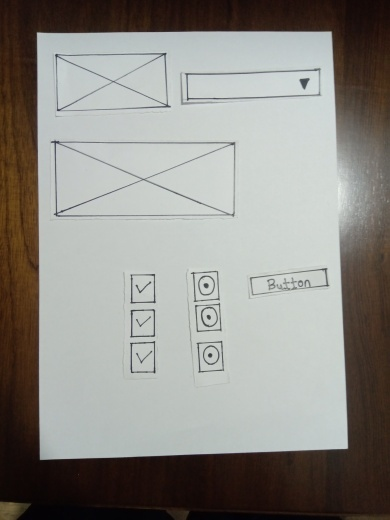button: (249, 266, 334, 298)
checkbox: (131, 275, 157, 304), (132, 345, 154, 375), (132, 310, 153, 338)
dropdown: (184, 71, 320, 105)
img: (53, 138, 234, 215), (56, 52, 168, 109)
radio: (190, 271, 217, 301), (199, 342, 222, 371), (197, 306, 219, 334)
